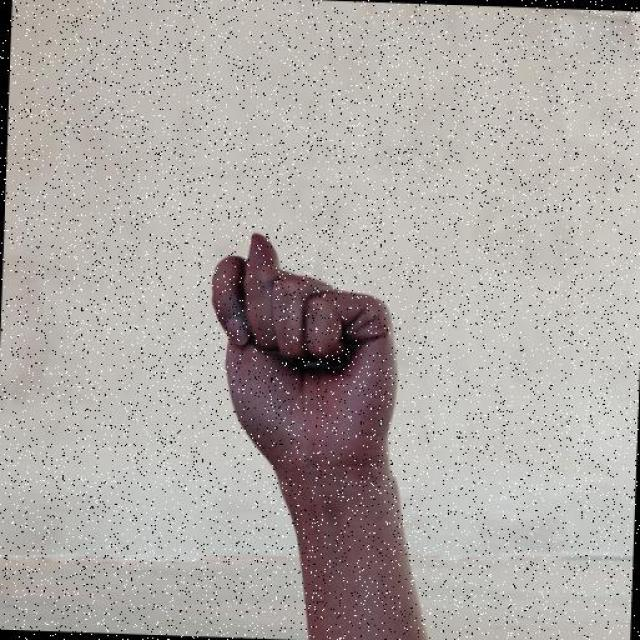T: (198, 227, 408, 478)
